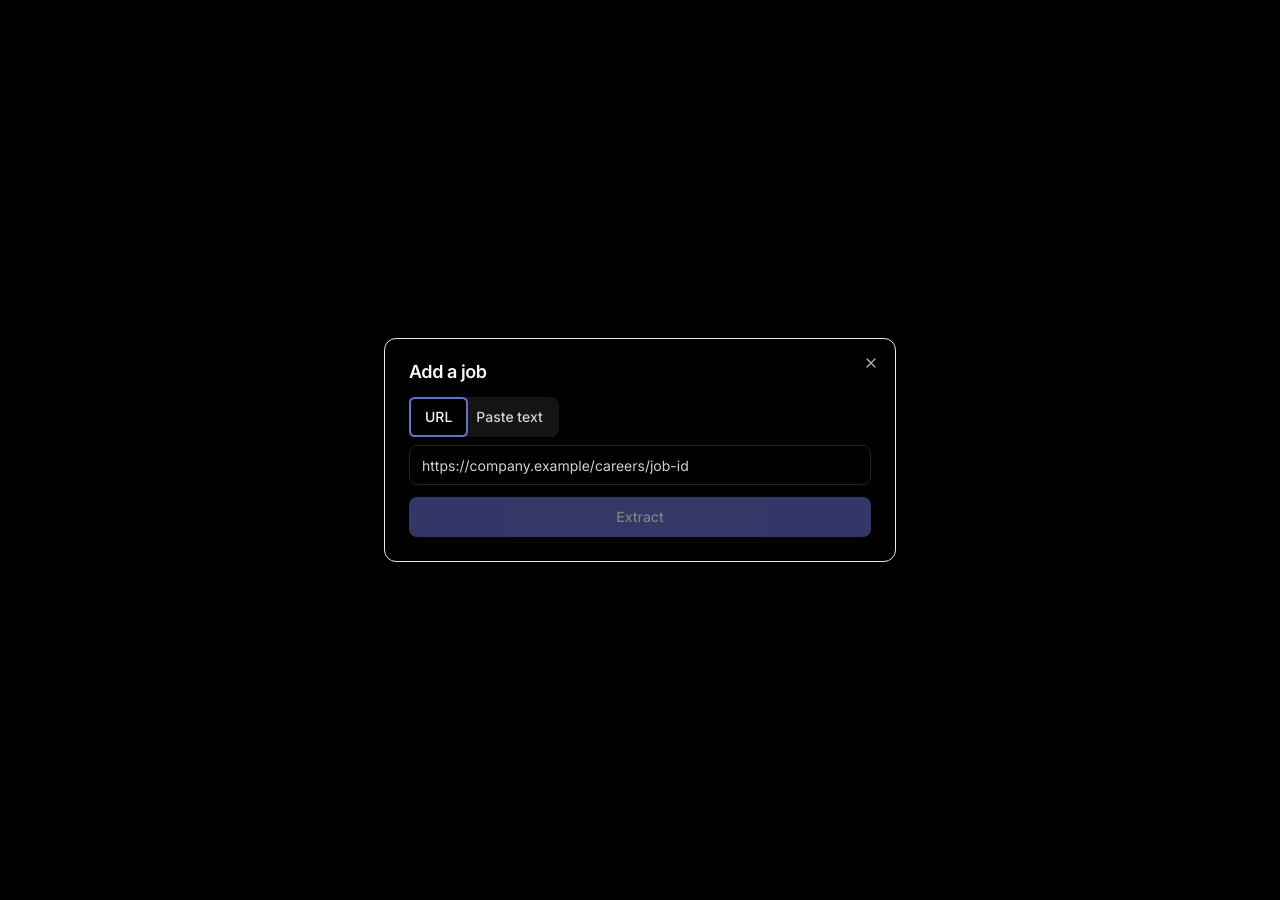
Scenario: AddJobDialog › shows an error message when the confirm request itself fails (network error)
Type "https://acme.example/jobs/1" into the field named "Job posting URL" at coordinates (640, 465), box [409,445,871,485]
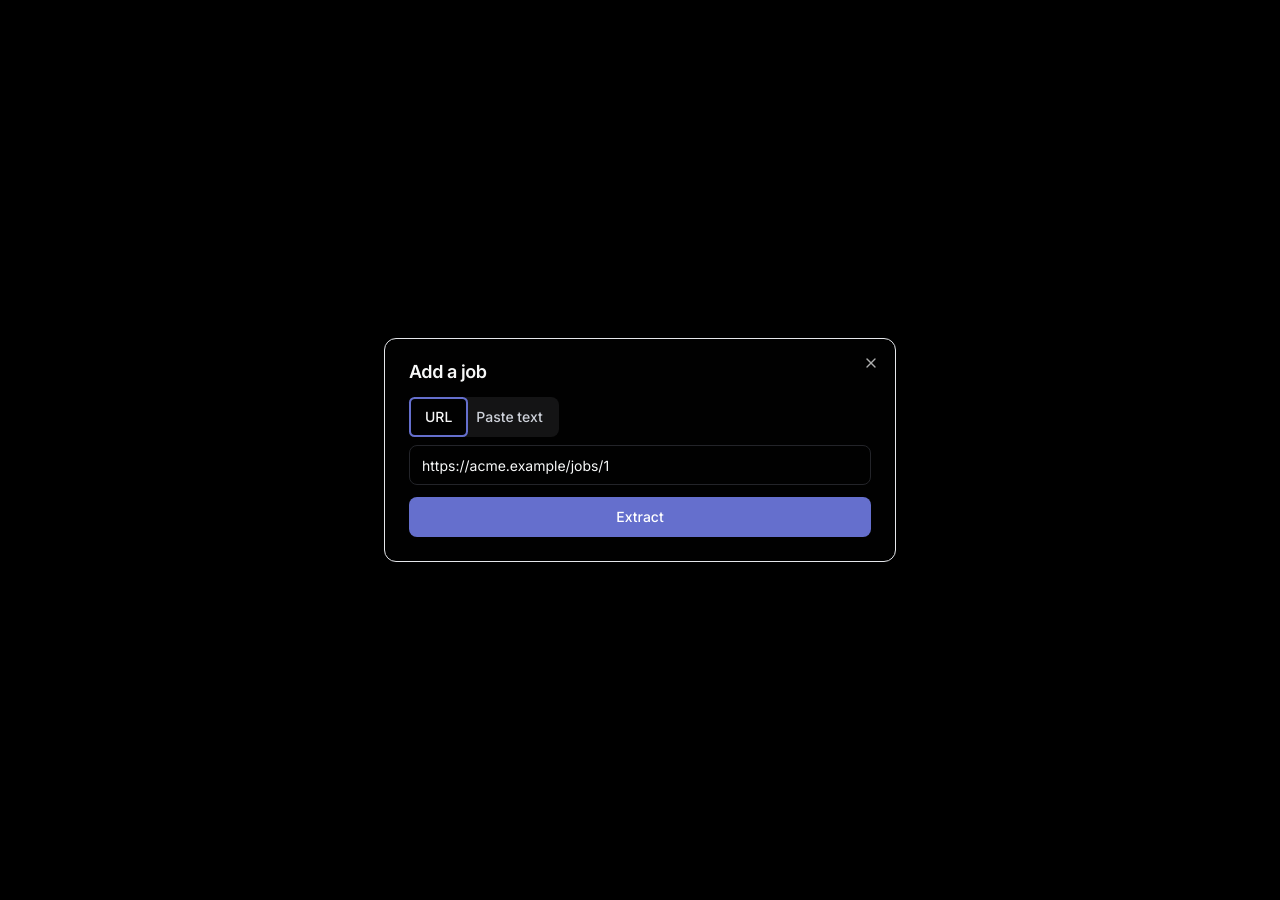
Click the button "Extract" at coordinates (640, 517), box [409,497,871,537]
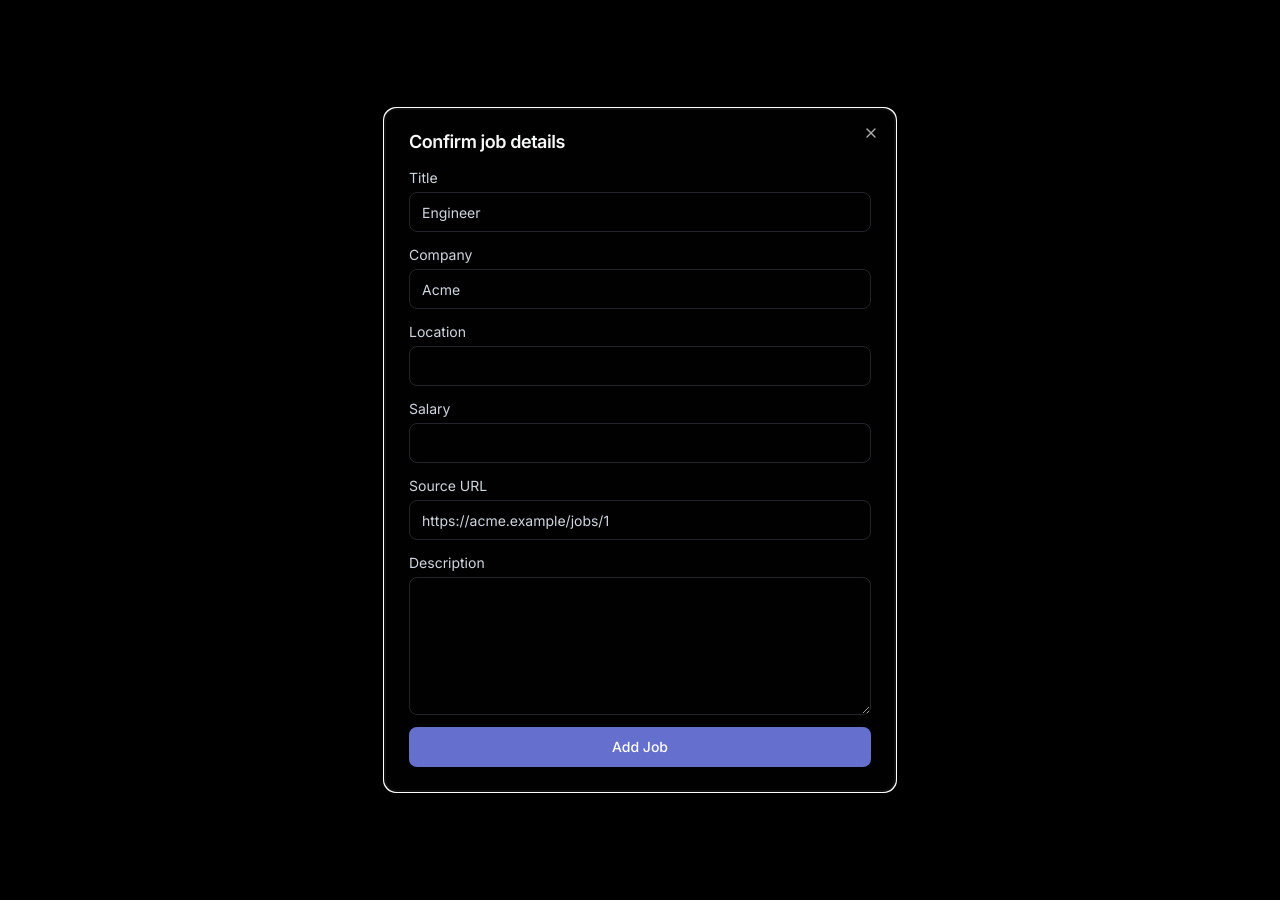
Now the field labelled "Title" holds "Engineer", box [409,192,871,232]
Click the button "Add Job" at coordinates (640, 747), box [409,727,871,767]
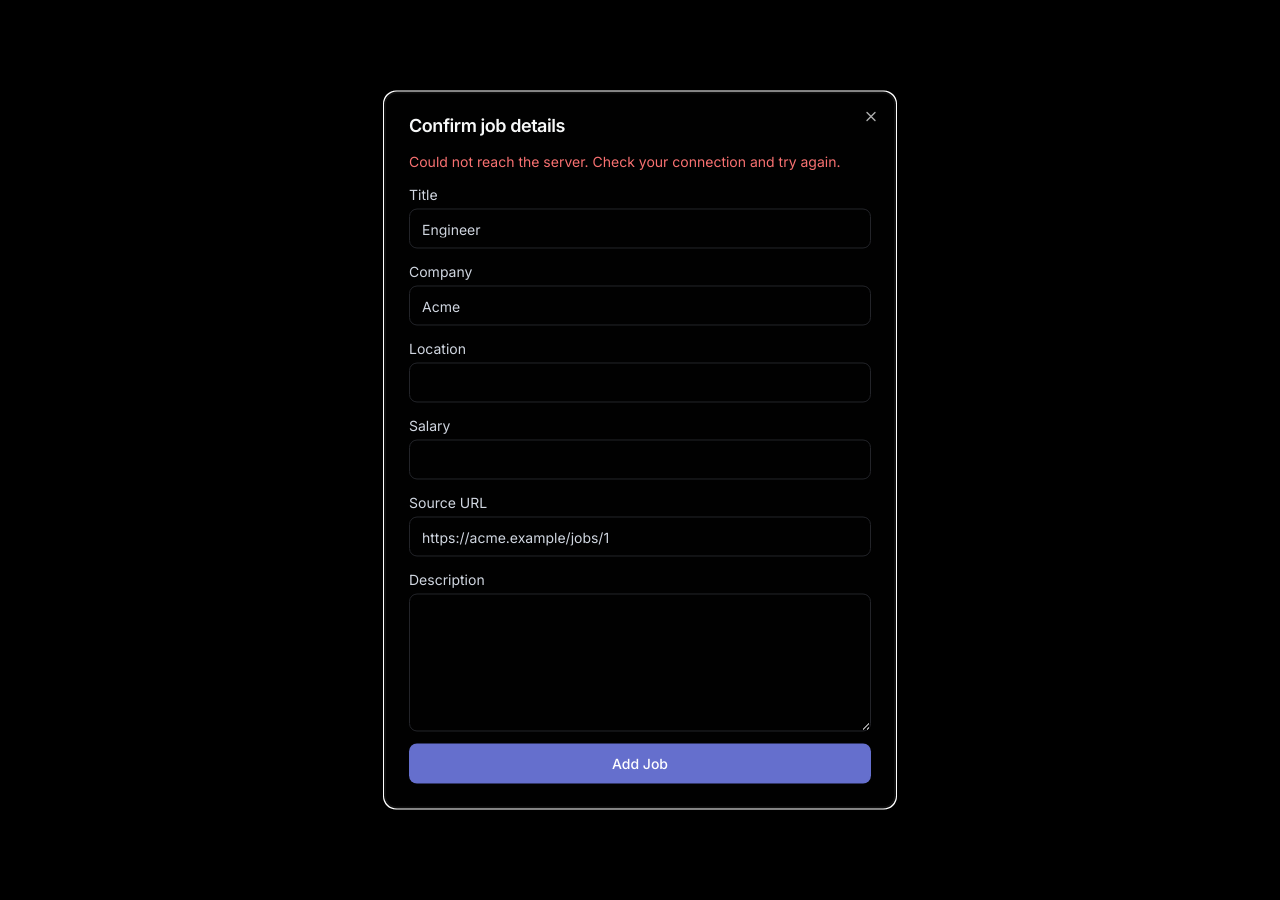
Now the text "Could not reach the server" is shown, box [409,152,840,170]
